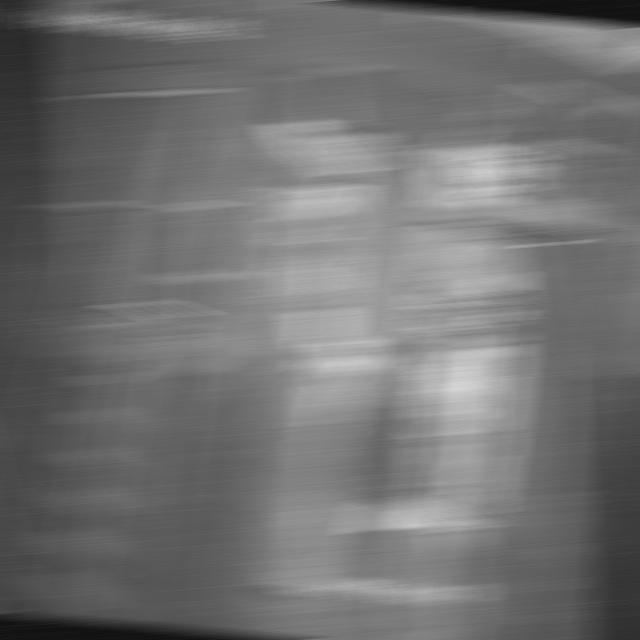cement_mixer_truck: (305, 264, 459, 500)
